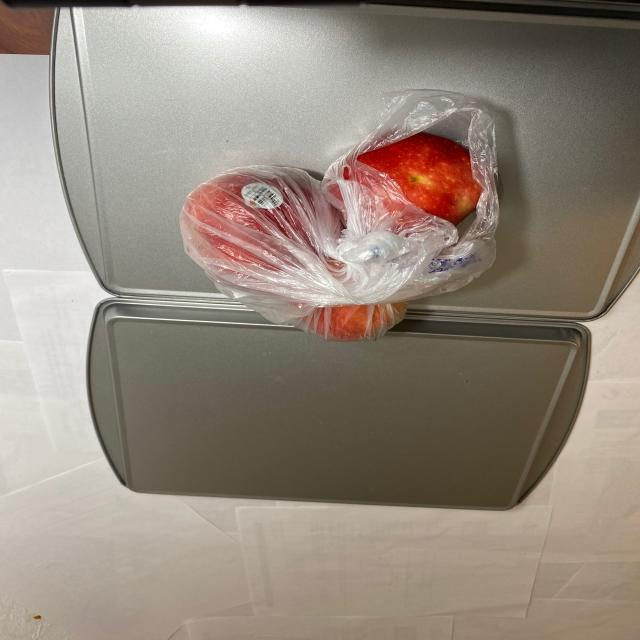apple: (183, 123, 501, 343)
